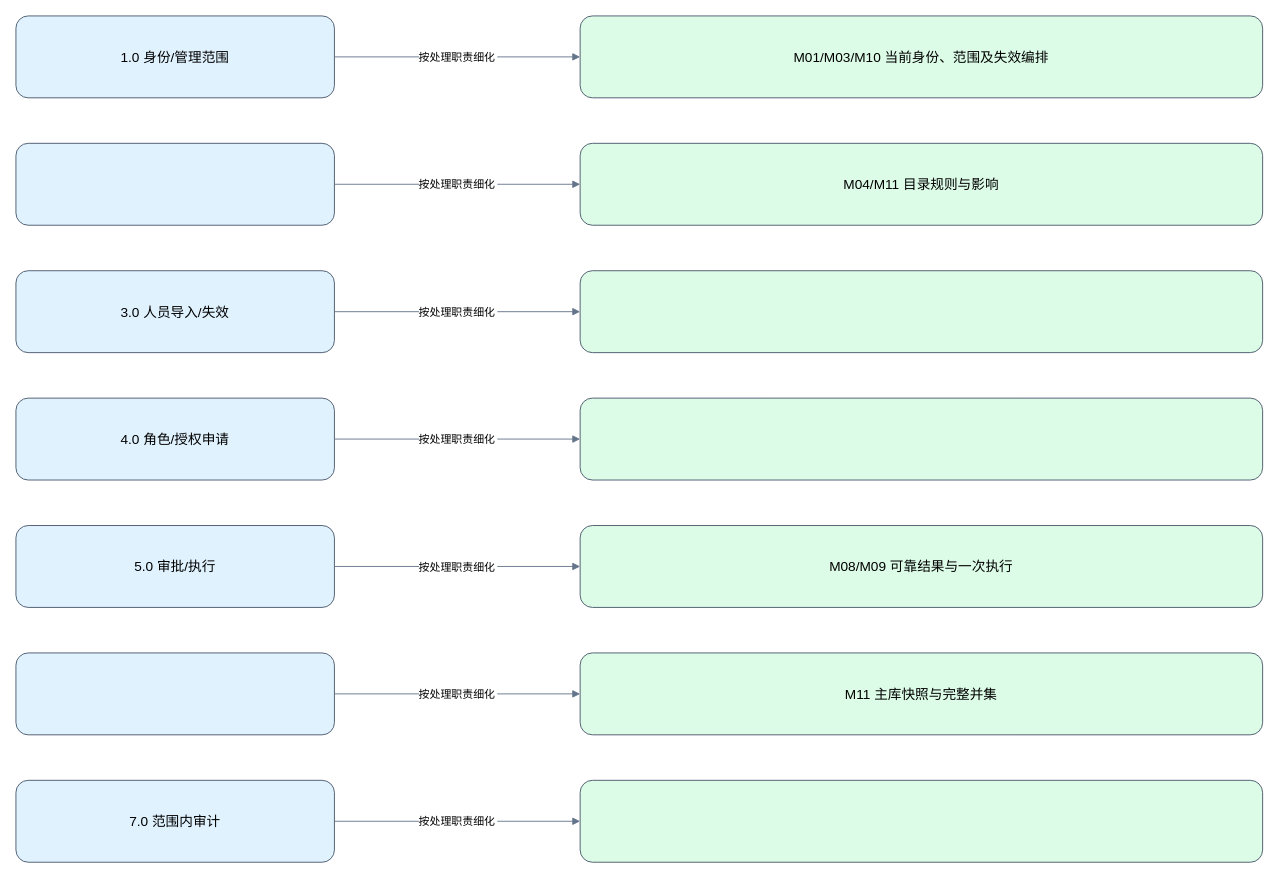
The diagram is 1279 pixels wide and 878 high, and some of its shapes have lost their labels. The box of each missing label's shape, as (x1, y1, x2, y2) in pixels:
2.0 系统/权限目录: (15, 142, 334, 225)
6.0 有效权限: (15, 652, 334, 735)
M02/M06/M10 冻结计划与原子提交: (579, 270, 1263, 353)
M05/M06/M07/M11 草稿、预览与固定: (579, 397, 1263, 480)
M11读取 / M00追加审计: (579, 779, 1263, 862)
